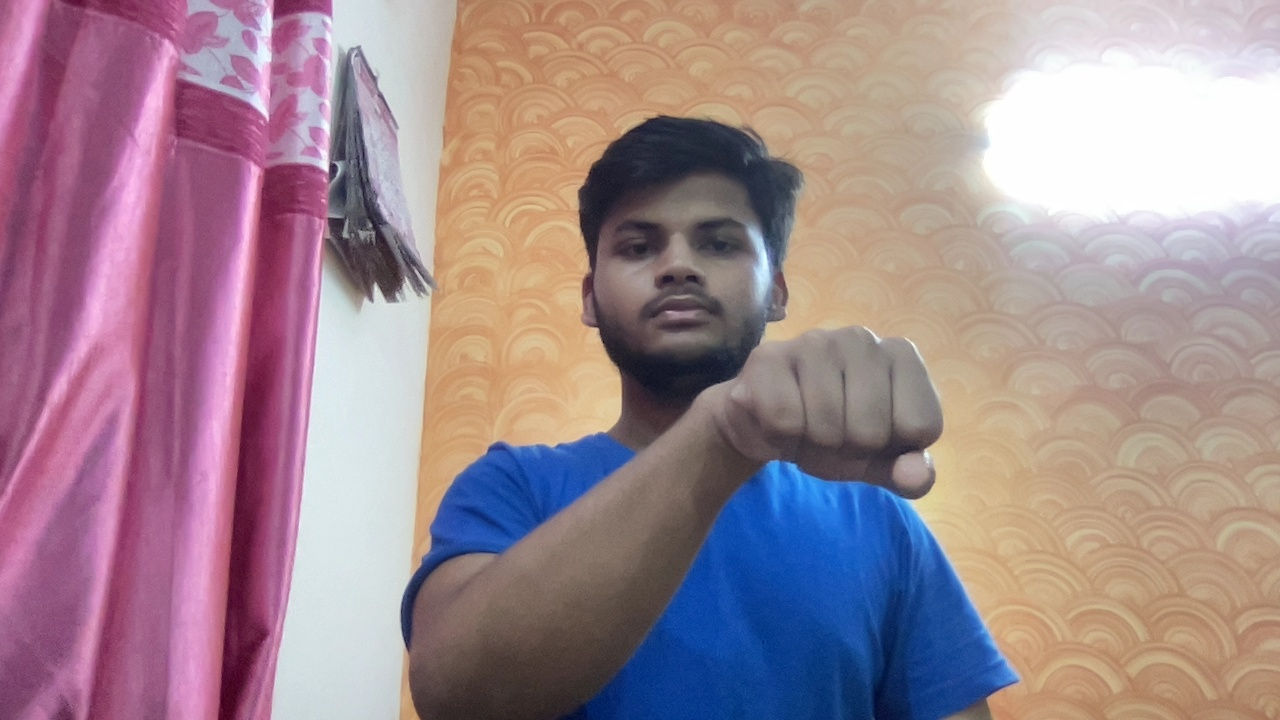yes: (650, 311, 1028, 545)
